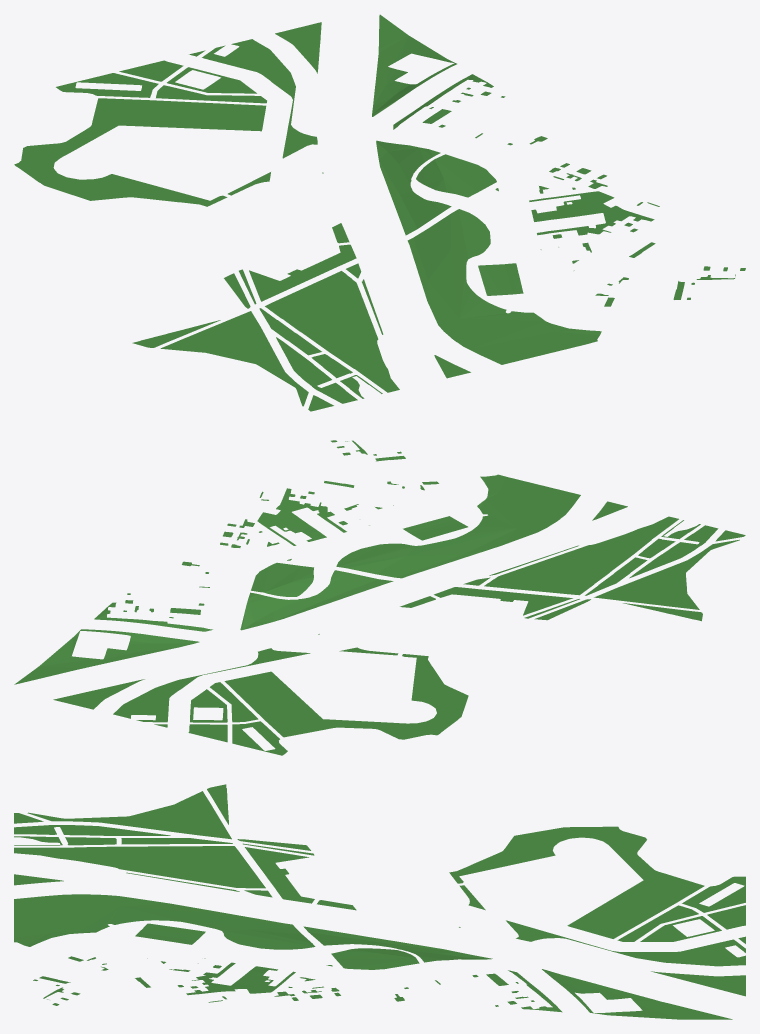
File: VEG_AREAS_GASOMETRO.fbx
3 views of the same model, one above another, from view 1: azimuth 30°, elevation 25°; view 2: azimuth 150°, elevation 25°; view 3: azimuth 270°, elevation 25° (orthographic). The views are drawn at different scales.
Visible parts, largest first — view 1: Gasometro_Gramado; view 2: Gasometro_Gramado; view 3: Gasometro_Gramado.
Boxes of the visible parts, x1=… form: Gasometro_Gramado: x1=14, y1=14, x2=745, y2=411; Gasometro_Gramado: x1=14, y1=440, x2=745, y2=755; Gasometro_Gramado: x1=14, y1=784, x2=745, y2=1019.
Bounding box in the file's own units: 312 × 9.6 × 410.
